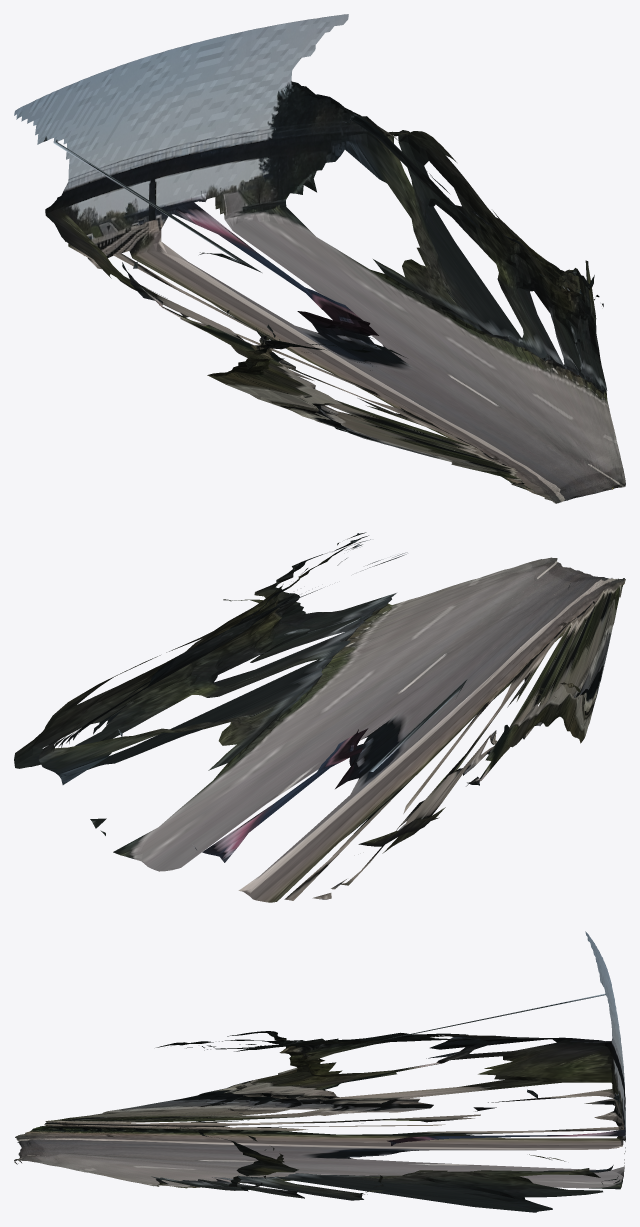
3 views of the same model, one above another, from view 1: azimuth 30°, elevation 25°; view 2: azimuth 150°, elevation 25°; view 3: azimuth 270°, elevation 25° (orthographic). The views are drawn at different scales.
Parts seen in each view (by area): view 1: defaultobject; view 2: defaultobject; view 3: defaultobject.
Boxes of the visible parts, <box> form: defaultobject: <box>14,14,625,503</box>; defaultobject: <box>14,532,625,902</box>; defaultobject: <box>14,931,625,1212</box>.
Size of the model in its own units: 26.78 by 12.84 by 44.66.
Materials: 1 (1 with a texture image).
